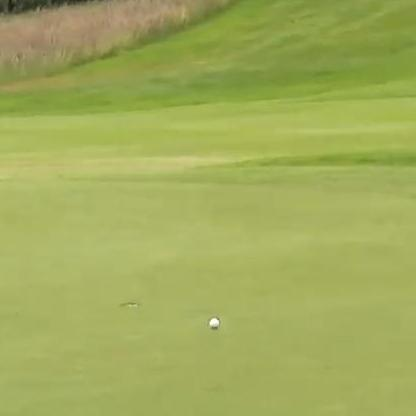golfball: (206, 315, 220, 329)
